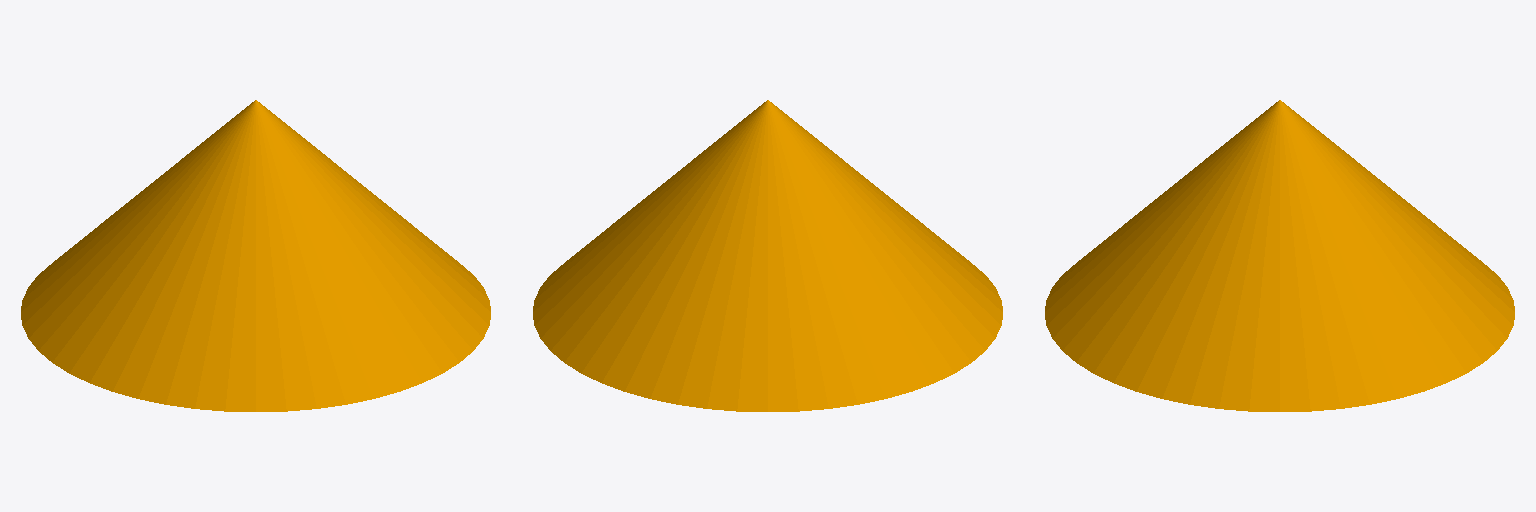
URDF robot description (object):
<?xml version="1.0"?>
<!-- Auto-generated by tools/gen_primitive_objects.py. kind=cone dims=(0.06, 0.06) -->
<robot name="object">
  <link name="object">
    <visual>
      <origin xyz="0 0 0"/>
      <geometry>
        <mesh filename="obj_2.stl"/>
      </geometry>
    </visual>
    <collision>
      <origin xyz="0 0 0"/>
      <geometry>
        <mesh filename="obj_2.stl"/>
      </geometry>
    </collision>
    <inertial>
      <origin xyz="0 0 -0.015000"/>
      <mass value="0.045239"/>
      <inertia ixx="0.00003054" ixy="0.0" ixz="0.0" iyy="0.00003054" iyz="0.0" izz="0.00004886"/>
    </inertial>
  </link>
</robot>

--- Render facts (derived) ---
Views: 3 orthographic renders of the robot side by side, from view 1: azimuth 30°, elevation 25°; view 2: azimuth 150°, elevation 25°; view 3: azimuth 270°, elevation 25°.
Model object with 1 links and 0 joints (none), rooted at object, posed all joints at 0.
Links seen in each view (by area): view 1: object; view 2: object; view 3: object.
Boxes of the visible links, x1,y1,x2,y2 form: object: [21, 100, 490, 411]; object: [533, 100, 1002, 411]; object: [1045, 100, 1514, 411].
Size in the robot's own frame: 0.12 by 0.12 by 0.06 metres.
1 mesh visuals loaded from 1 distinct referenced files (1 binary STL).
